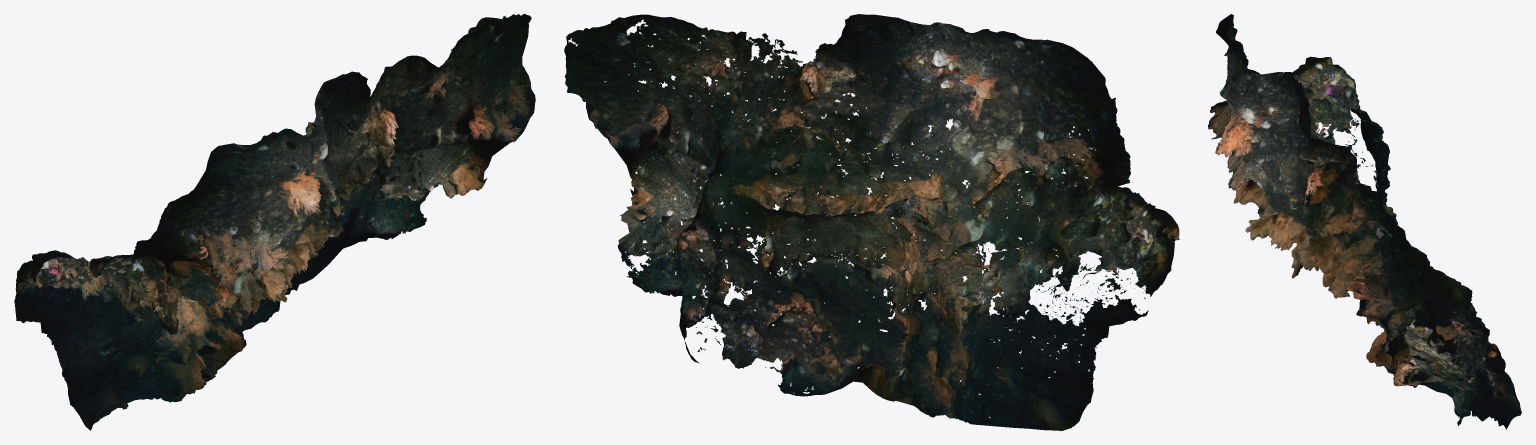
Rendered from sea_fan_corals.glb.
3 views of the same model, side by side, from view 1: azimuth 30°, elevation 25°; view 2: azimuth 150°, elevation 25°; view 3: azimuth 270°, elevation 25° (orthographic). The views are drawn at different scales.
Parts seen in each view (by area): view 1: Object_6, Object_2, Object_7, Object_5, Object_3, Object_4; view 2: Object_2, Object_5, Object_3, Object_6, Object_7, Object_4; view 3: Object_5, Object_2, Object_6, Object_4, Object_3, Object_7.
Boxes of the visible parts, x1,y1,x2,y2 form: Object_6: (14,143,491,430); Object_2: (41,14,535,342); Object_7: (49,16,505,374); Object_5: (15,21,496,336); Object_3: (97,150,434,419); Object_4: (103,14,527,384); Object_2: (564,29,1150,357); Object_5: (617,17,1113,363); Object_3: (626,112,1108,430); Object_6: (620,112,1179,430); Object_7: (614,14,1130,383); Object_4: (568,14,1106,404); Object_5: (1275,112,1520,416); Object_2: (1208,68,1509,425); Object_6: (1227,56,1521,429); Object_4: (1208,40,1500,394); Object_3: (1211,100,1511,425); Object_7: (1215,14,1477,319).
Size of the model in its own units: 12.05 by 6.89 by 5.55.
Materials: 2 (2 with a texture image).
